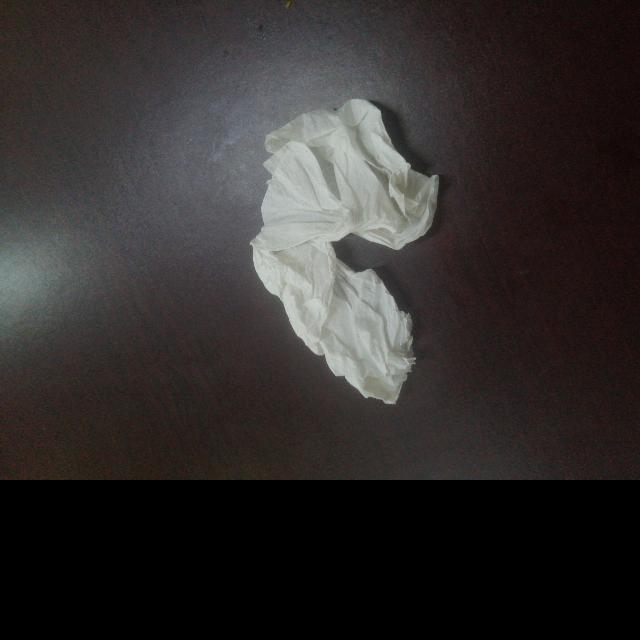kitchen paper: (241, 91, 449, 431)
